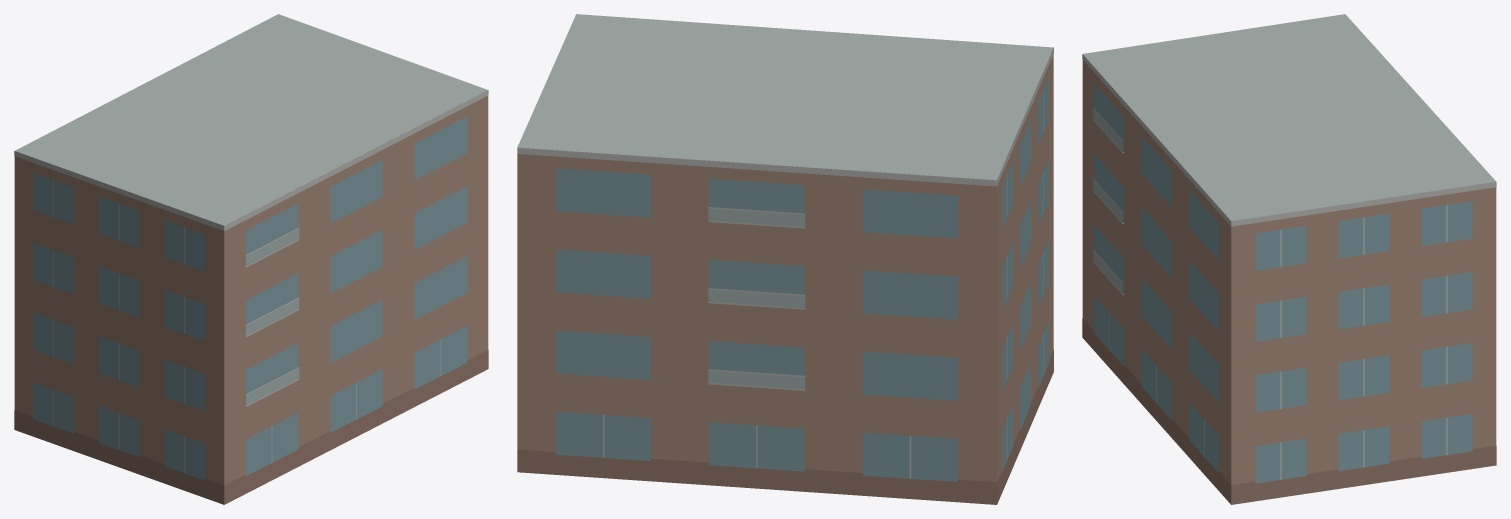
File: survey-upis-32800209.glb
3 views of the same model, side by side, from view 1: azimuth 30°, elevation 25°; view 2: azimuth 150°, elevation 25°; view 3: azimuth 270°, elevation 25° (orthographic). The views are drawn at different scales.
Visible parts, largest first — view 1: survey-upis-32800209.tmp; view 2: survey-upis-32800209.tmp; view 3: survey-upis-32800209.tmp.
Boxes of the visible parts, bbox=[...] form: survey-upis-32800209.tmp: bbox=[14, 14, 488, 504]; survey-upis-32800209.tmp: bbox=[517, 14, 1053, 504]; survey-upis-32800209.tmp: bbox=[1082, 14, 1496, 504].
Bounding box in the file's own units: 20.07 × 12.8 × 16.94.
